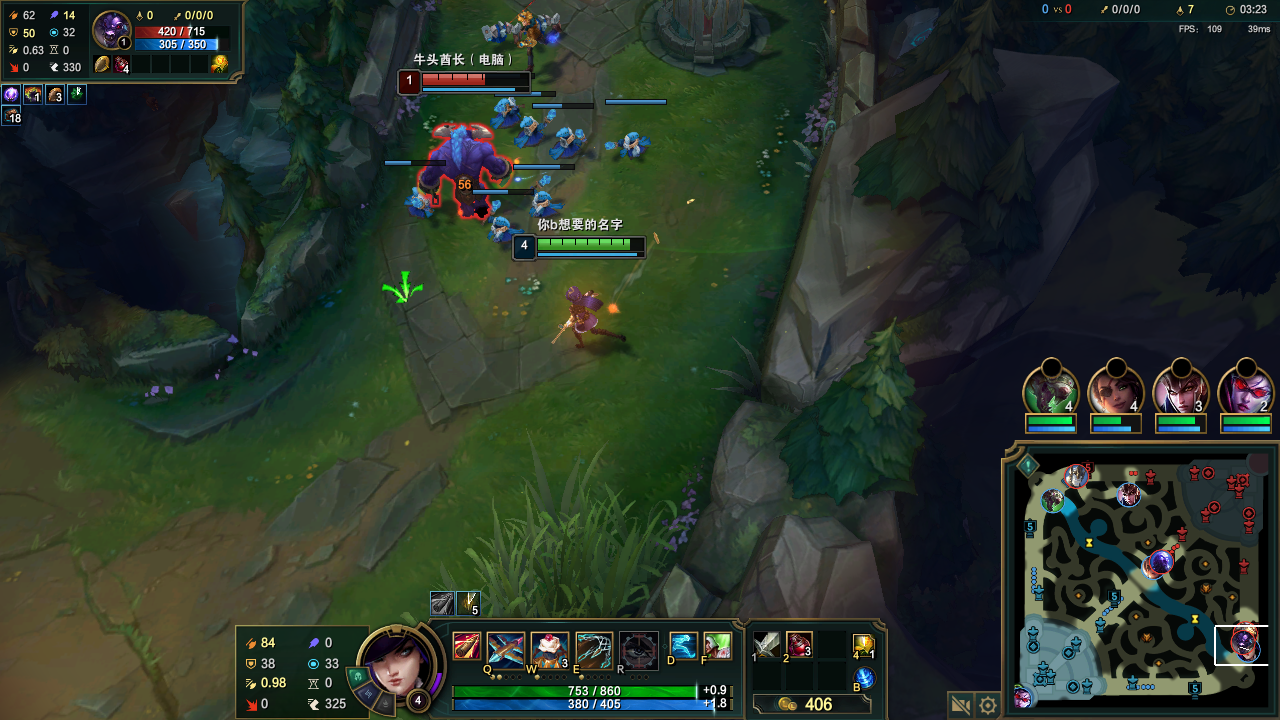DFFYT: (664, 1, 747, 53)
DFYX: (424, 74, 515, 85)
WFXB: (556, 126, 587, 159), (399, 185, 431, 214), (489, 214, 517, 247), (519, 116, 547, 144), (533, 190, 559, 216), (624, 130, 647, 158), (488, 18, 514, 40), (500, 101, 519, 125)
Yita: (1186, 674, 1205, 700)
